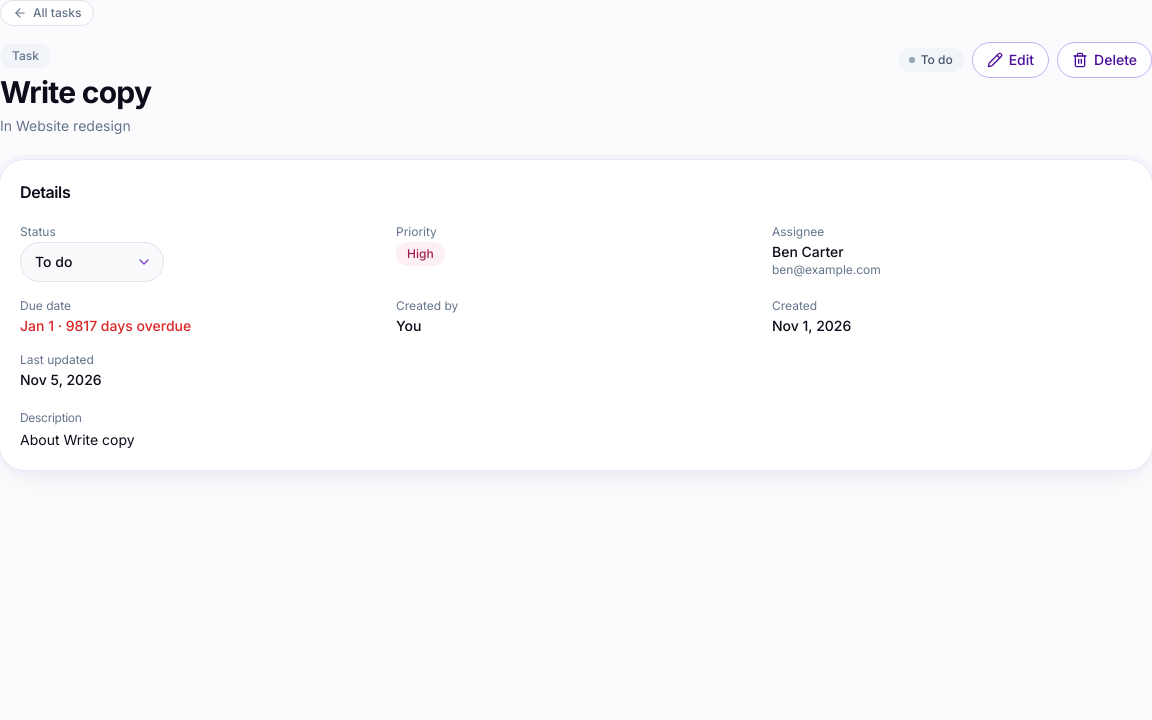
Test: changing things › edits the task from the dialog, sending only what changed
Click the button "Edit".
click(1010, 60)  # box left=972, top=42, right=1049, bottom=78
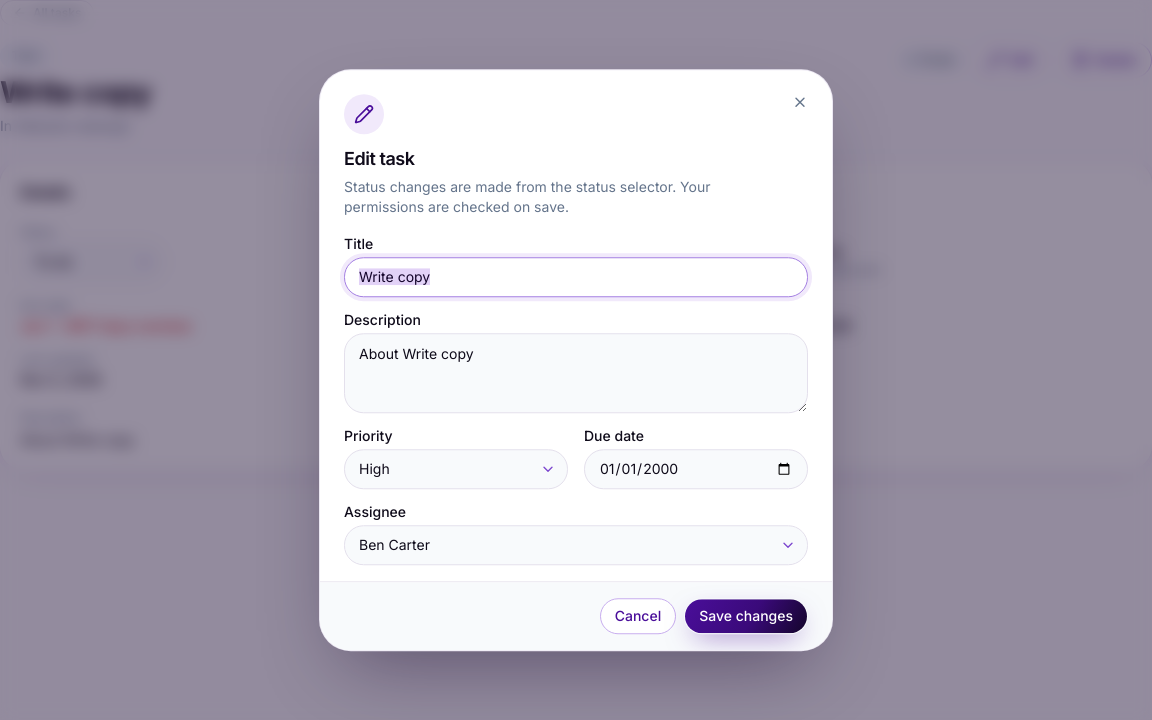
Now the dropdown labelled "Assignee" shows "Ben Carter", box left=344, top=525, right=808, bottom=565
Select "Low" in the dropdown labelled "Priority" at coordinates (456, 469), box left=344, top=449, right=568, bottom=489
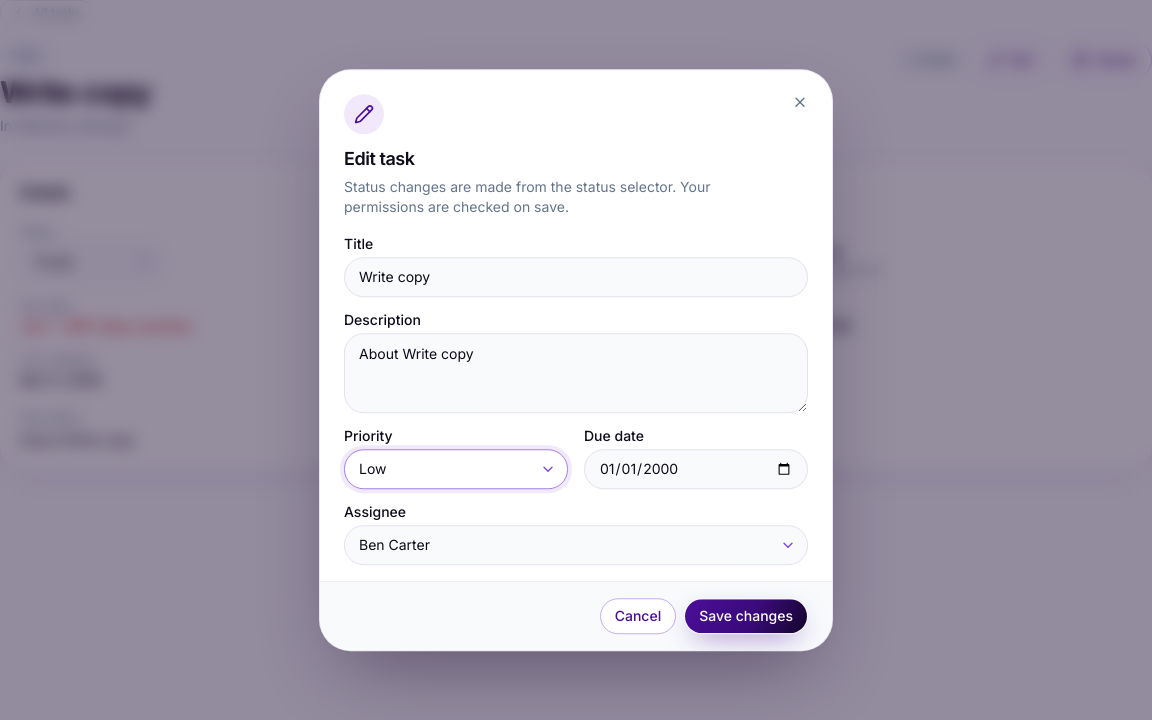
Click the button "Save changes".
click(746, 616)  # box left=684, top=598, right=808, bottom=634
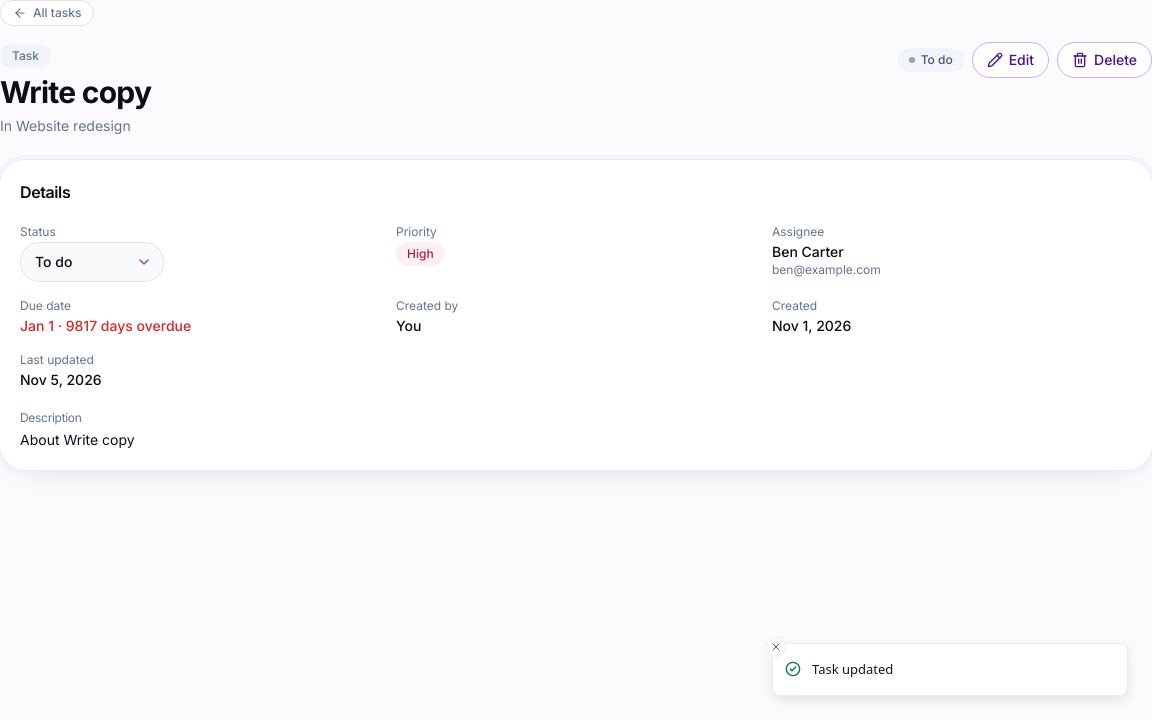
Now the dialog is gone
